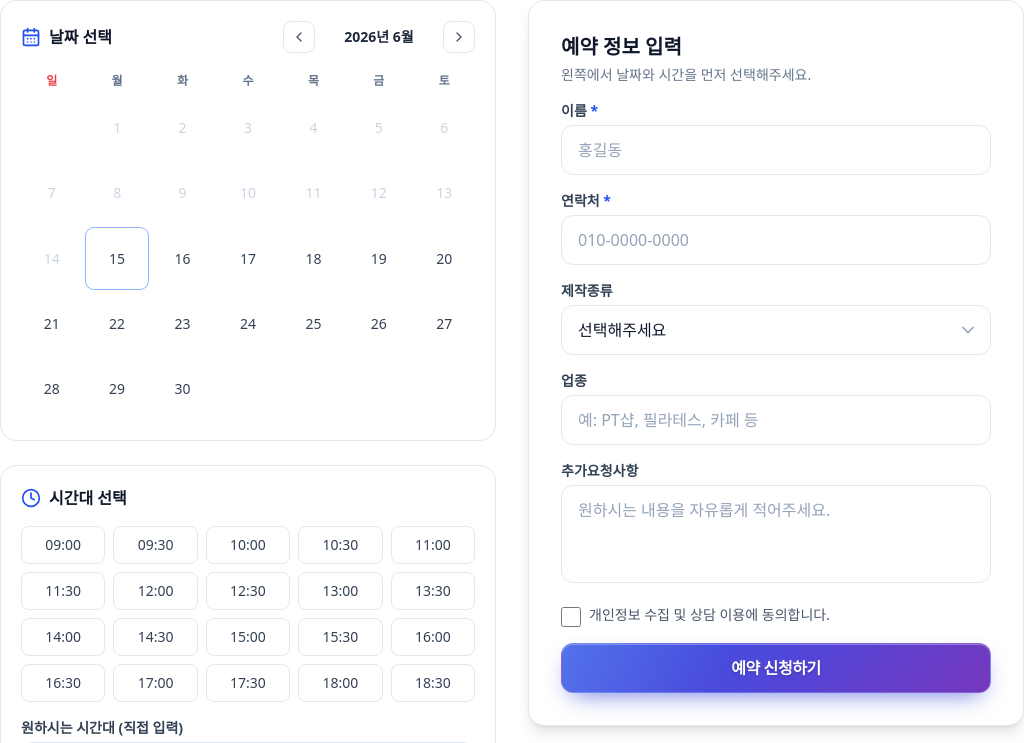
Test: ReservationBooker › submits a complete reservation
Click the button "20".
click(444, 259)  # box left=414, top=228, right=475, bottom=289
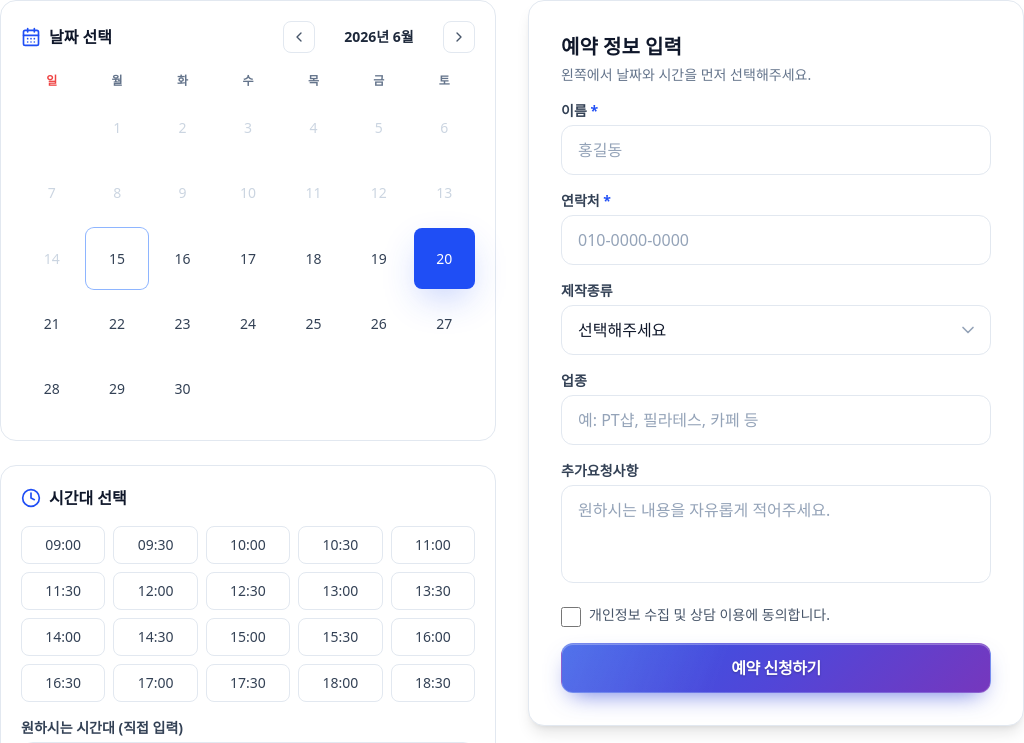
Click the button "11:00".
click(433, 545)  # box left=391, top=526, right=475, bottom=564
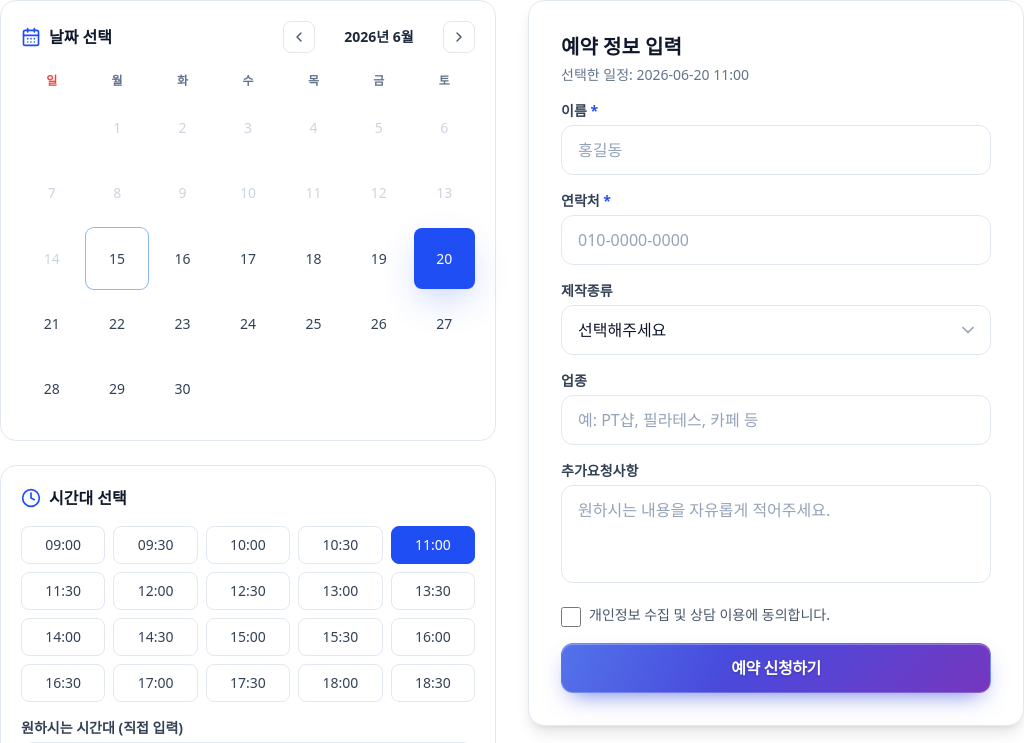
Type "예약자" into the field with placeholder "홍길동".
click(776, 150); type("예약자")  # box left=561, top=125, right=991, bottom=175
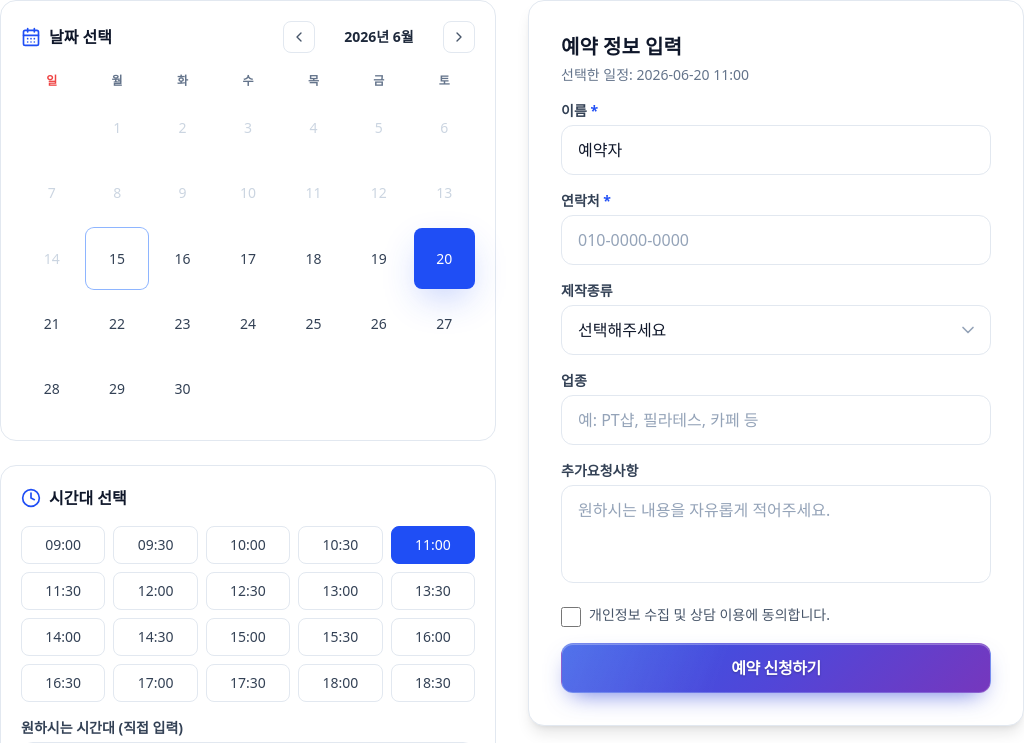
Type "010-1111-2222" into the field with placeholder "010-0000-0000".
click(776, 240); type("010-1111-2222")  # box left=561, top=215, right=991, bottom=265
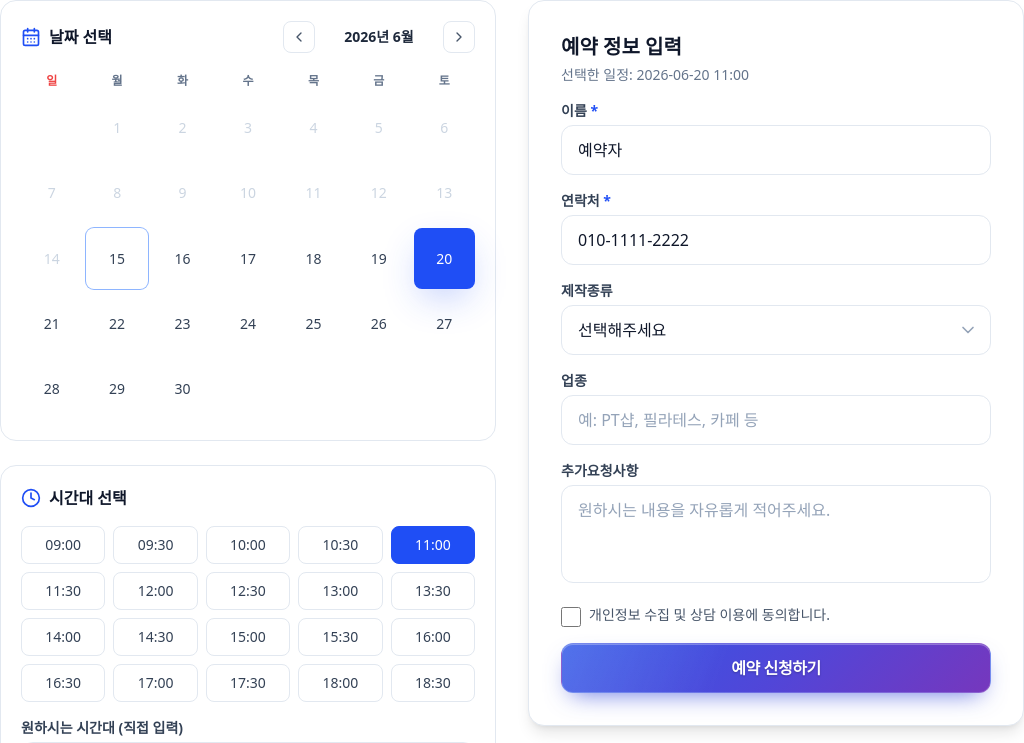
Click the checkbox.
click(571, 617)  # box left=561, top=607, right=581, bottom=627
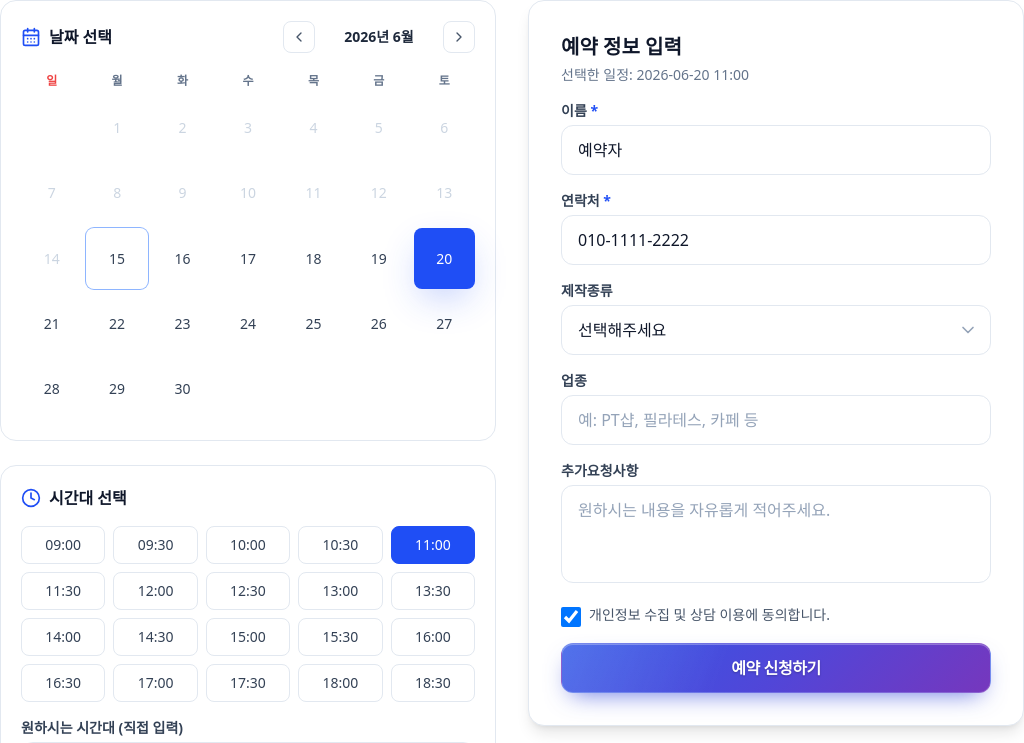
Click the button "예약 신청하기".
click(776, 668)  # box left=561, top=643, right=991, bottom=693
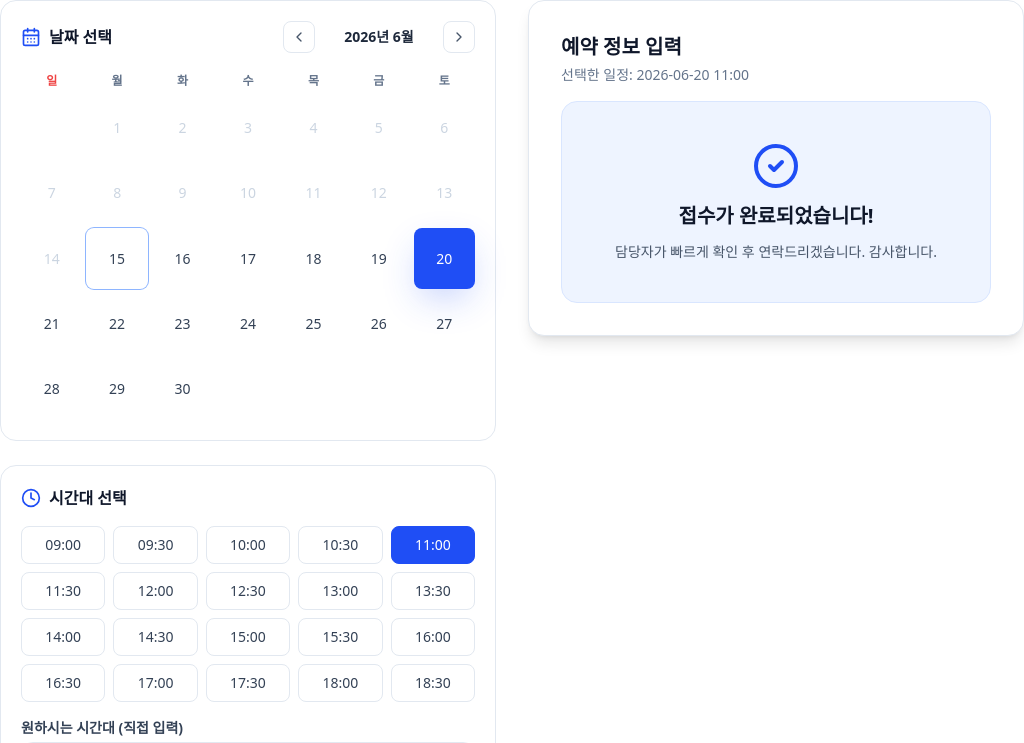
Expected: the heading "접수가 완료되었습니다!" is shown, left=678, top=202, right=873, bottom=230
